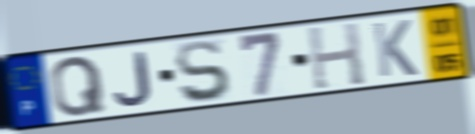7: (236, 31, 285, 100)
H: (305, 20, 368, 92)
J: (112, 50, 155, 108)
K: (370, 18, 421, 80)
Q: (48, 53, 108, 119)
S: (173, 38, 233, 106)
